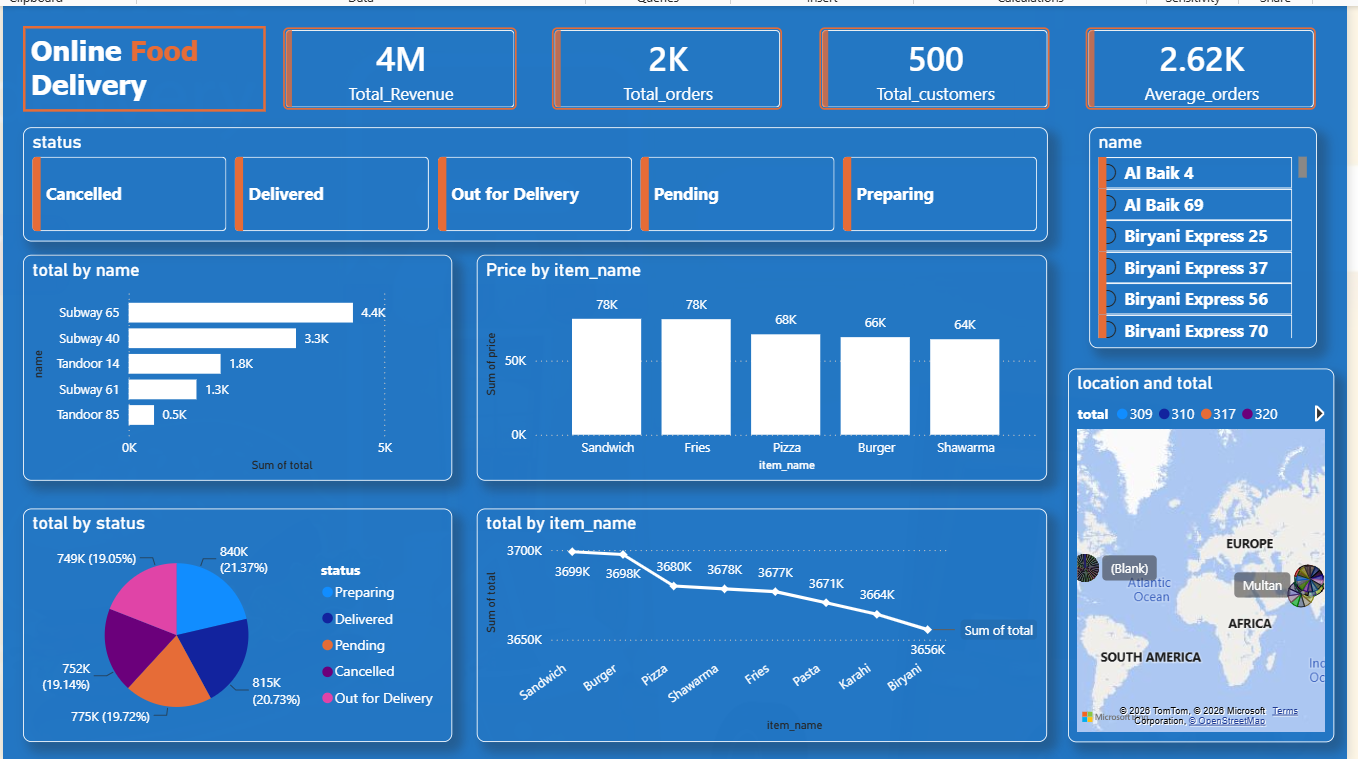

Layout of this report page (visuals, bound fields, positions):
{"tool":"powerbi","page":{"name":"Page 1","canvas":[1280,720],"ordinal":0},"visuals":[{"type":"cardVisual","fields":{"Data":["customers.Total_Revenue"]},"box":[250.2,3.2,256.2,112.5],"z":0},{"type":"cardVisual","fields":{"Data":["customers.Total_orders"]},"box":[506.5,3.2,253.8,112.5],"z":1000},{"type":"cardVisual","fields":{"Data":["customers.Total_customers"]},"box":[760.2,3.2,253.8,112.5],"z":2000},{"type":"cardVisual","fields":{"Data":["customers.Average_orders"]},"box":[1014,3.2,253.8,112.5],"z":3000},{"type":"textbox","box":[18.8,18.8,231.2,81.2],"z":4000},{"type":"barChart","title":"total by name","fields":{"Category":["restaurants.name"],"Y":["Sum(orders.total)"]},"box":[19.2,237.4,408.9,215.4],"z":5000},{"type":"pieChart","title":" total by status","fields":{"Category":["orders.status"],"Y":["Sum(orders.total)"]},"box":[19.2,478.9,408.9,222.3],"z":6000},{"type":"columnChart","title":"Price by item_name","fields":{"Category":["menus.item_name"],"Y":["Sum(menus.price)"]},"box":[451.5,237.4,543.4,215.4],"z":7000},{"type":"map","fields":{"Category":["restaurants.location"],"Series":["orders.total"]},"box":[1014.3,345.2,253.6,356],"z":8000},{"type":"listSlicer","fields":{"Values":["restaurants.name"]},"box":[1034.5,115.5,216.7,210.7],"z":9000},{"type":"advancedSlicerVisual","fields":{"Values":["orders.status"]},"box":[19.2,115.3,975.6,108.4],"z":10000},{"type":"lineChart","title":" total by item_name","fields":{"Y":["Sum(orders.total)"],"Category":["menus.item_name"]},"box":[451,479,543,222],"z":10001}]}

Visuals, with their boxes on the page's 1280x720 design canvas (x1, y1, x2, y2). These are canvas units, not pixel positions in the 1358x759 screenshot, which may show the page scaled, cropped or inside an application window:
cardVisual - customers.Total_Revenue: rect(250, 3, 506, 116)
cardVisual - customers.Total_orders: rect(506, 3, 760, 116)
cardVisual - customers.Total_customers: rect(760, 3, 1014, 116)
cardVisual - customers.Average_orders: rect(1014, 3, 1268, 116)
textbox: rect(19, 19, 250, 100)
"total by name" barChart: rect(19, 237, 428, 453)
" total by status" pieChart: rect(19, 479, 428, 701)
"Price by item_name" columnChart: rect(452, 237, 995, 453)
map - restaurants.location x orders.total: rect(1014, 345, 1268, 701)
listSlicer - restaurants.name: rect(1034, 116, 1251, 326)
advancedSlicerVisual - orders.status: rect(19, 115, 995, 224)
" total by item_name" lineChart: rect(451, 479, 994, 701)
